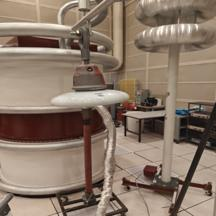insulator: (42, 57, 135, 114)
